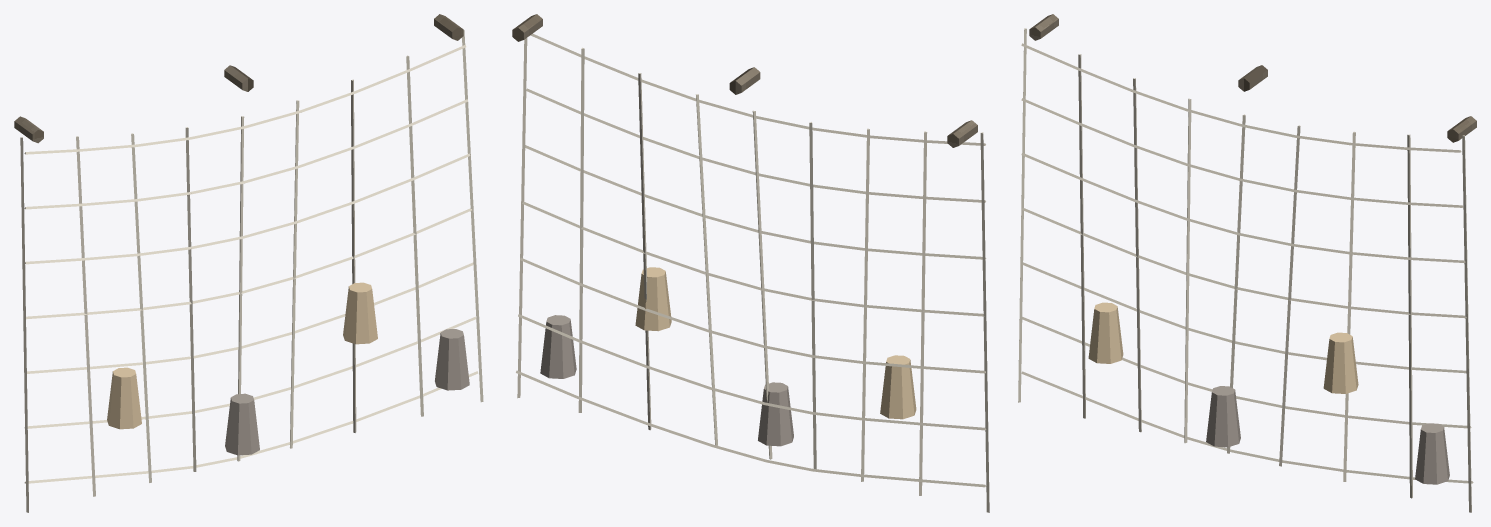
The model's file is fishing_net.obj.
3 renders of one model, left to right at view 1: azimuth 30°, elevation 25°; view 2: azimuth 150°, elevation 25°; view 3: azimuth 330°, elevation 25°, orthographic. The views are drawn at different scales.
Parts seen in each view (by area): view 1: fishing_net; view 2: fishing_net; view 3: fishing_net.
Part boxes in pixels (x1,y1,x2,y2): fishing_net: [14, 14, 483, 512]; fishing_net: [512, 14, 989, 512]; fishing_net: [1018, 14, 1476, 512].
Bounding box in the file's own units: 1.74 × 1.38 × 0.23.
